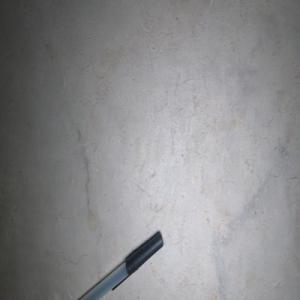Pen: (79, 231, 163, 300)
